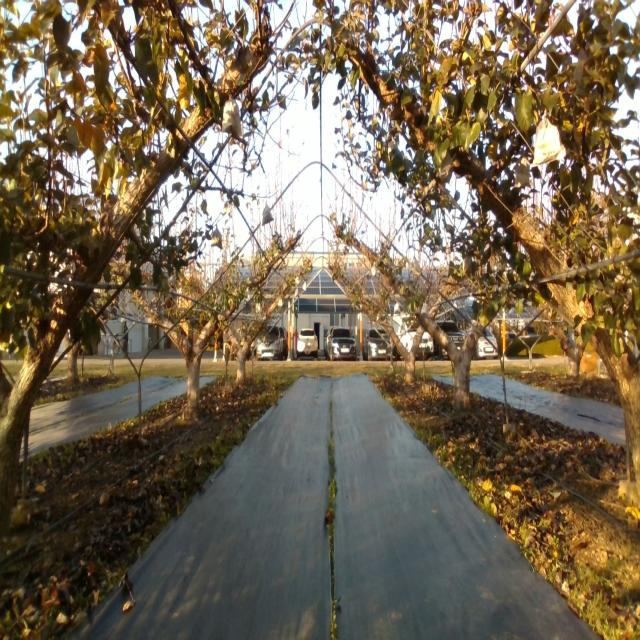pearbags: (533, 117, 567, 169), (222, 98, 242, 136), (514, 156, 532, 188), (262, 204, 274, 226), (211, 225, 222, 249)
